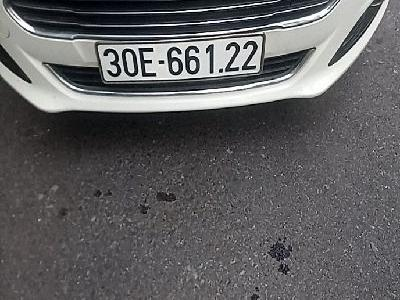car: (95, 35, 266, 84)
